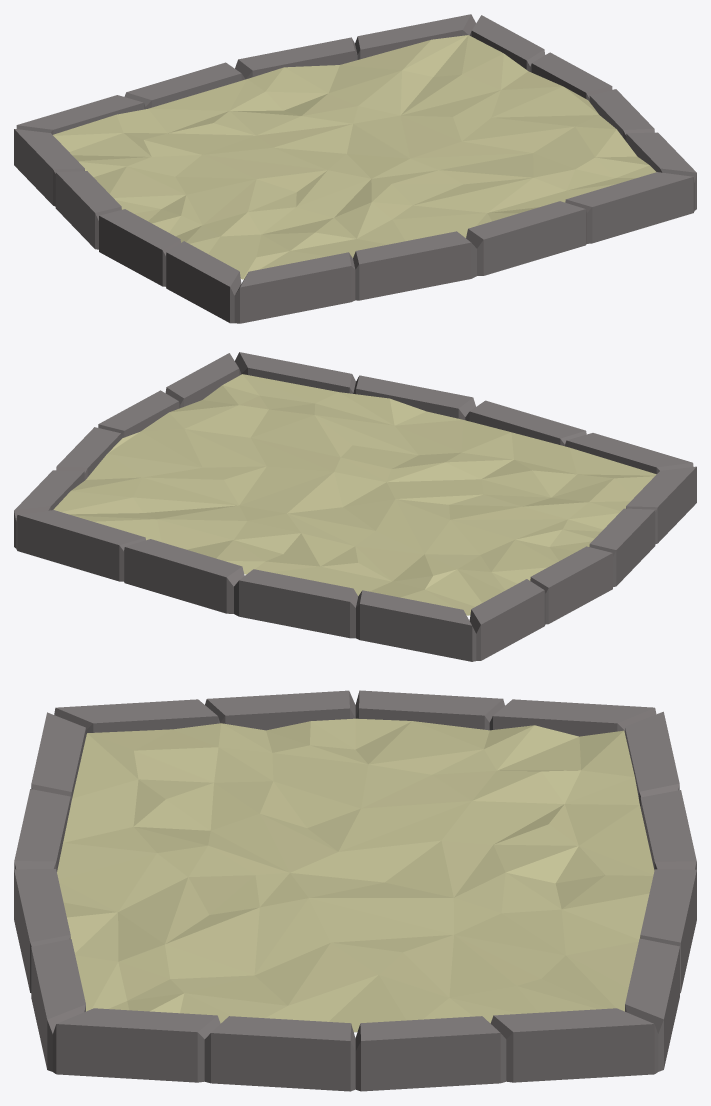
Rendered from Sand_Garden_Grey_vc.fbx.
3 renders of one model, top to bottom at view 1: azimuth 30°, elevation 25°; view 2: azimuth 150°, elevation 25°; view 3: azimuth 270°, elevation 25°, orthographic. The views are drawn at different scales.
Visible parts, largest first — view 1: Sand_Garden_Grey_vc; view 2: Sand_Garden_Grey_vc; view 3: Sand_Garden_Grey_vc.
Part boxes in pixels (x1,y1,x2,y2): Sand_Garden_Grey_vc: (14, 14, 696, 323); Sand_Garden_Grey_vc: (14, 352, 696, 661); Sand_Garden_Grey_vc: (14, 690, 696, 1091).
Bounding box in the file's own units: 849 × 56.97 × 699.
